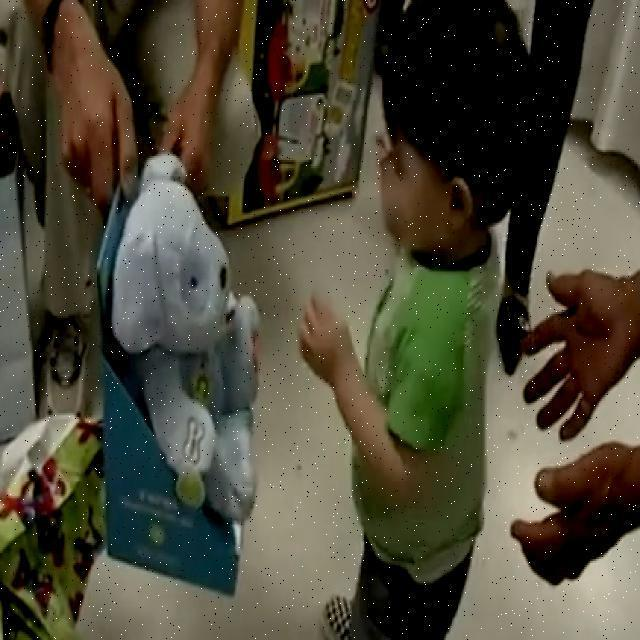child: (294, 0, 541, 640)
